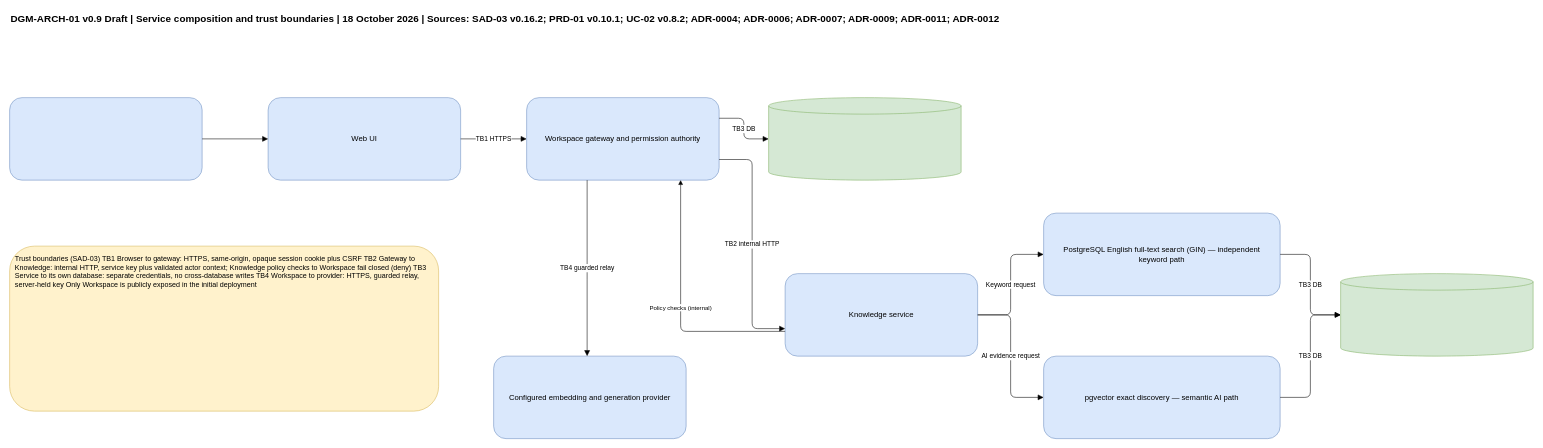
This 1543x448 diagram has some shape labels left out. The shapes that lost their labels are listed below. From the top down, each one's box as (x1, y1, x2, y2) in pixels, then its label:
(9, 97, 202, 180): Member
(768, 97, 961, 180): Workspace owned data
(1340, 273, 1533, 356): Knowledge owned data and search
